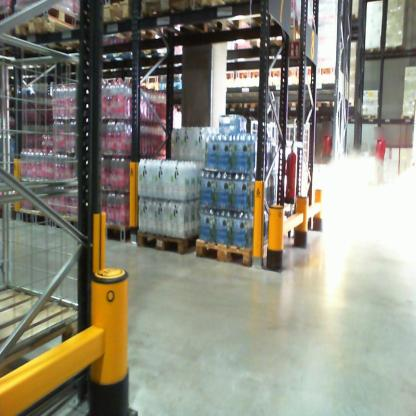pallet: (2, 271, 92, 379), (138, 1, 243, 45), (98, 3, 171, 61), (197, 230, 283, 270), (14, 4, 78, 52), (135, 225, 213, 257), (240, 9, 304, 44), (91, 210, 146, 245), (6, 205, 53, 229), (52, 213, 86, 234), (361, 41, 383, 56), (383, 43, 406, 57), (360, 112, 383, 123), (309, 100, 330, 112), (218, 102, 246, 111), (244, 100, 267, 109), (400, 111, 415, 122)
